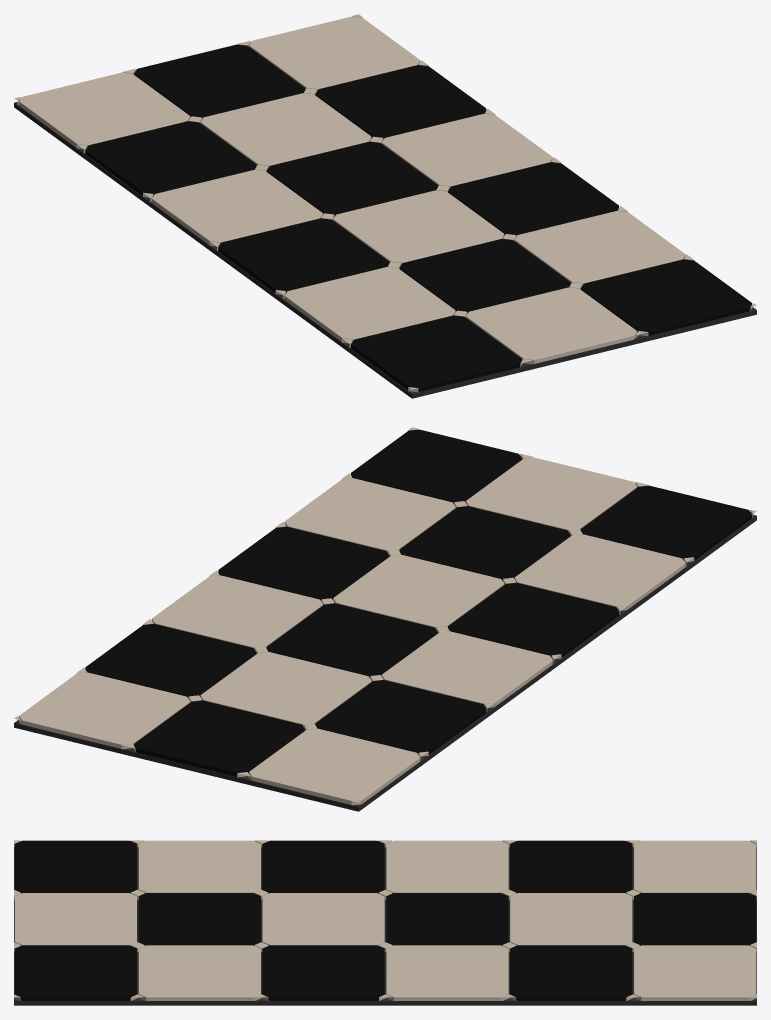
The model's file is SM_Floor_Tile_02.fbx.
The picture shows the model from 3 angles, top to bottom: view 1: azimuth 30°, elevation 25°; view 2: azimuth 150°, elevation 25°; view 3: azimuth 270°, elevation 25°; orthographic projection. The views are drawn at different scales.
Parts seen in each view (by area): view 1: Plane.041, Cube.083; view 2: Plane.041, Cube.083; view 3: Plane.041, Cube.083, Plane.043.
Boxes of the visible parts, x1,y1,x2,y2 form: Plane.041: (19,16,751,391); Cube.083: (14,102,756,398); Plane.041: (19,429,751,804); Cube.083: (14,515,756,811); Plane.041: (14,840,756,1000); Cube.083: (14,847,756,1005); Plane.043: (14,994,640,1000).
Size of the model in its own units: 200 by 5 by 400.
